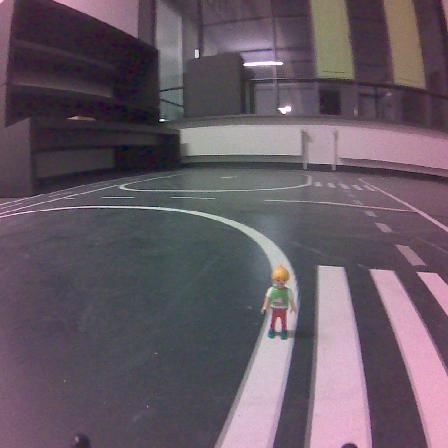CHILD: (261, 265, 297, 338)
